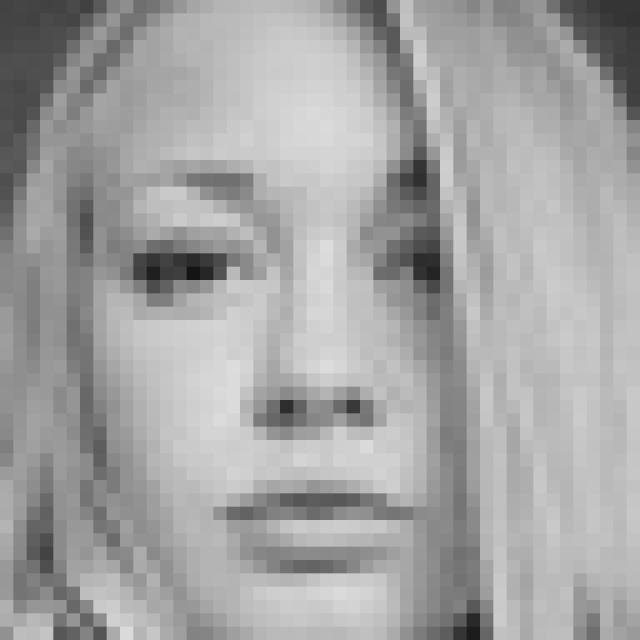neutral: (119, 151, 449, 585)
